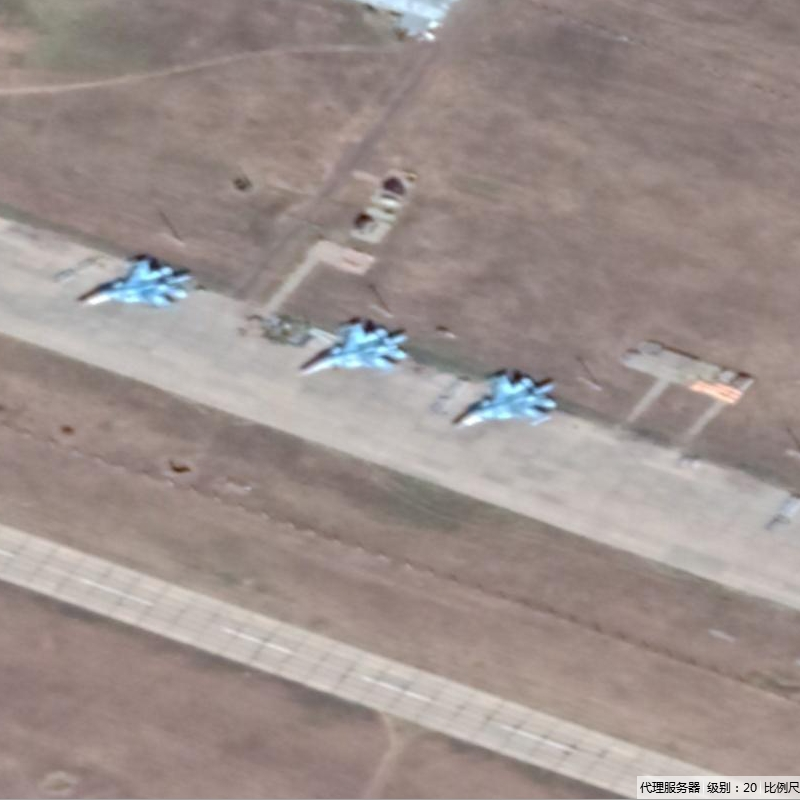A19: (294, 319, 410, 379), (450, 369, 560, 431), (79, 255, 193, 309)
